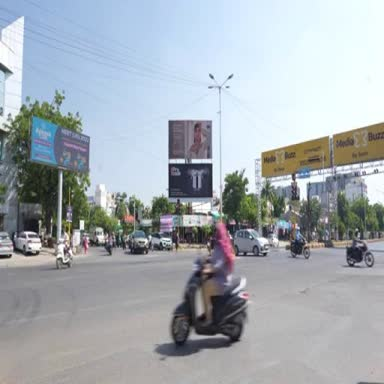Car: (234, 230, 269, 256), (15, 232, 41, 254), (130, 231, 148, 254), (0, 232, 14, 258), (152, 233, 172, 250), (268, 234, 278, 247)
